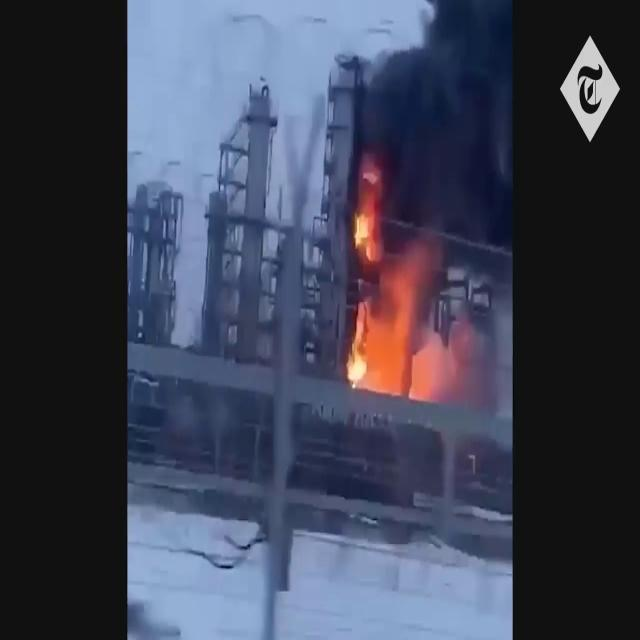Fire: (338, 181, 457, 403)
Smoke: (348, 1, 512, 272)
